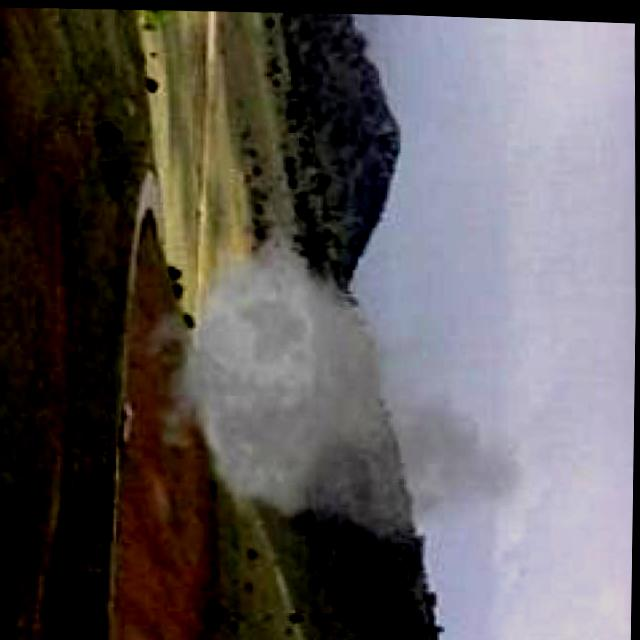no_helmet: (129, 174, 539, 561)
